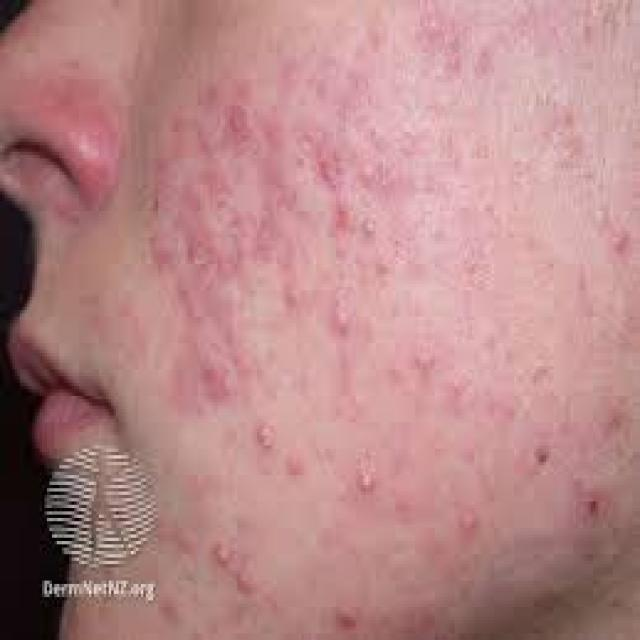Acne: (133, 53, 405, 504)
